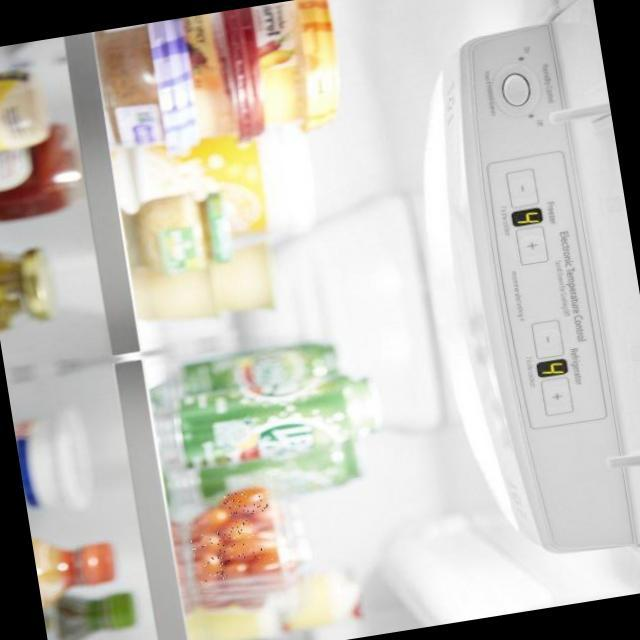tomato paste: (220, 489, 270, 520), (187, 508, 230, 538), (221, 538, 262, 564), (190, 532, 223, 559), (196, 555, 226, 583), (249, 552, 283, 575), (223, 520, 255, 542)
